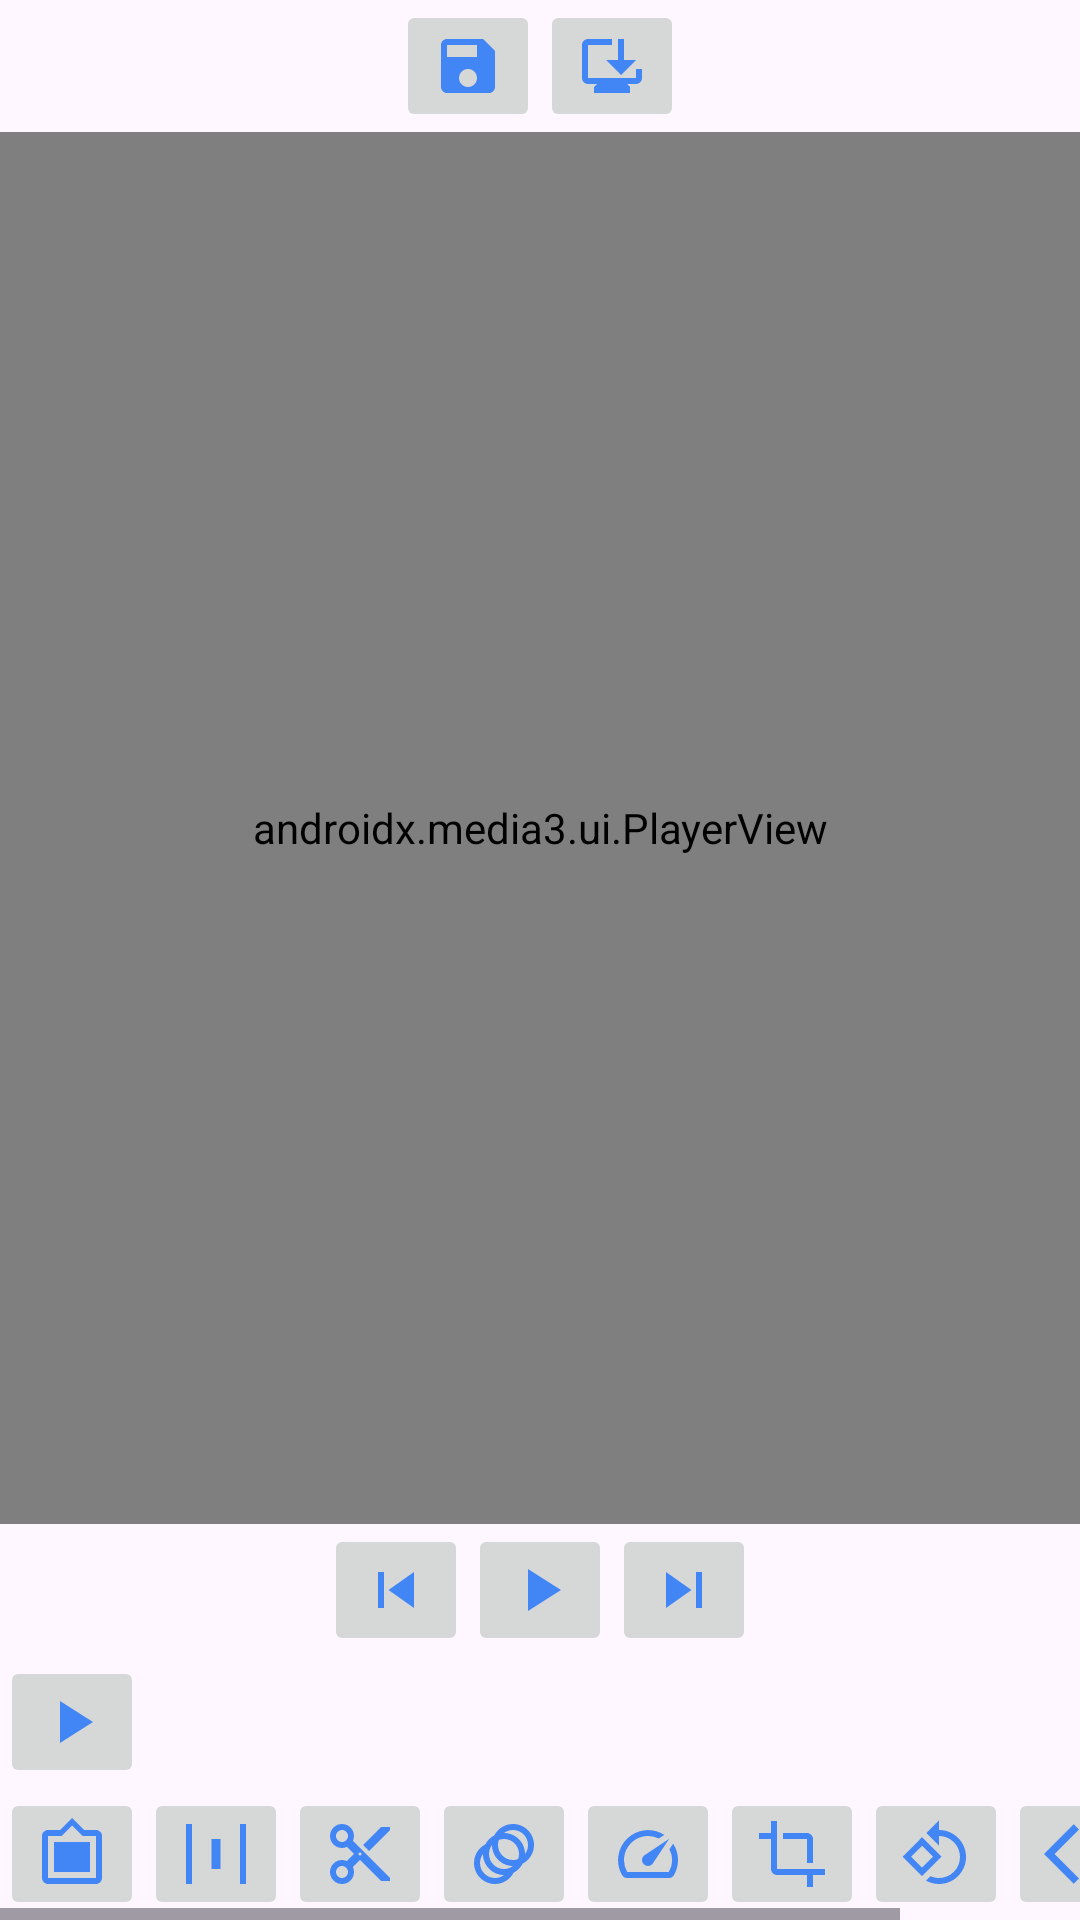

Where to tap for icons on this 1080×1920 app screen, as point (x, y):
Crop: point (792, 1854)
Export: point (612, 66)
Next: point (684, 1590)
Previous: point (396, 1590)
Rotate: point (936, 1854)
Save: point (468, 66)
Speed: point (648, 1854)
